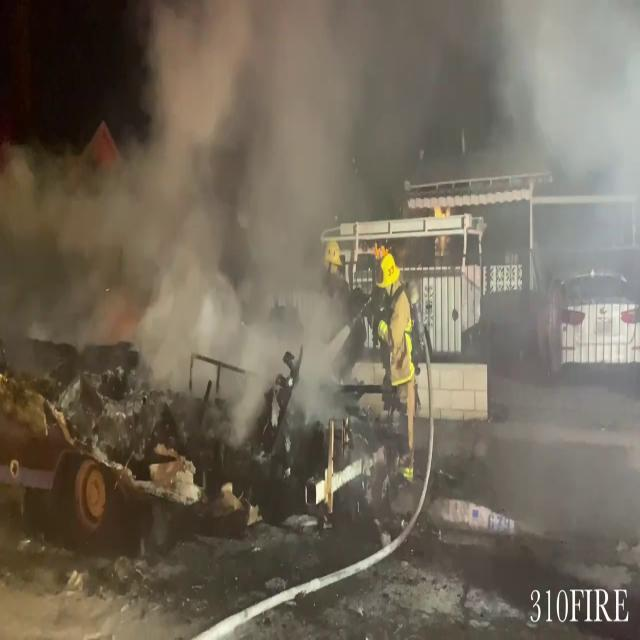Smoke: (0, 0, 467, 367), (474, 0, 640, 288)
